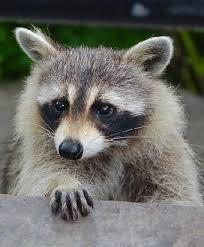raccoon: (5, 16, 201, 230)
